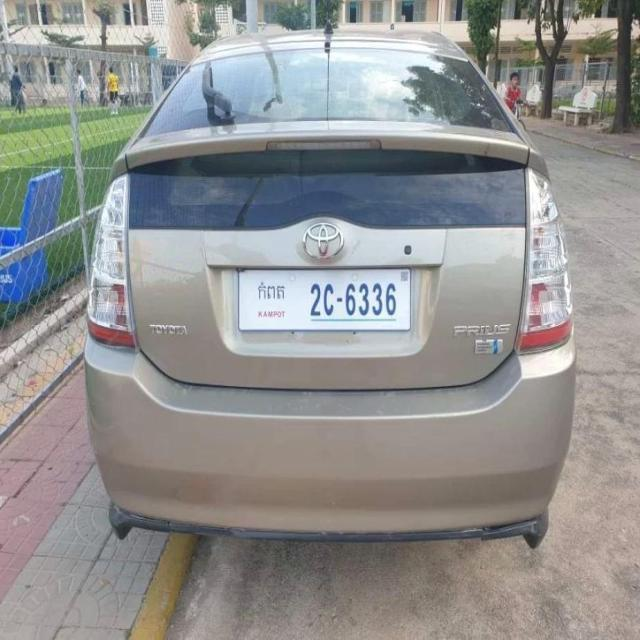Kampot: (257, 279, 287, 306)
